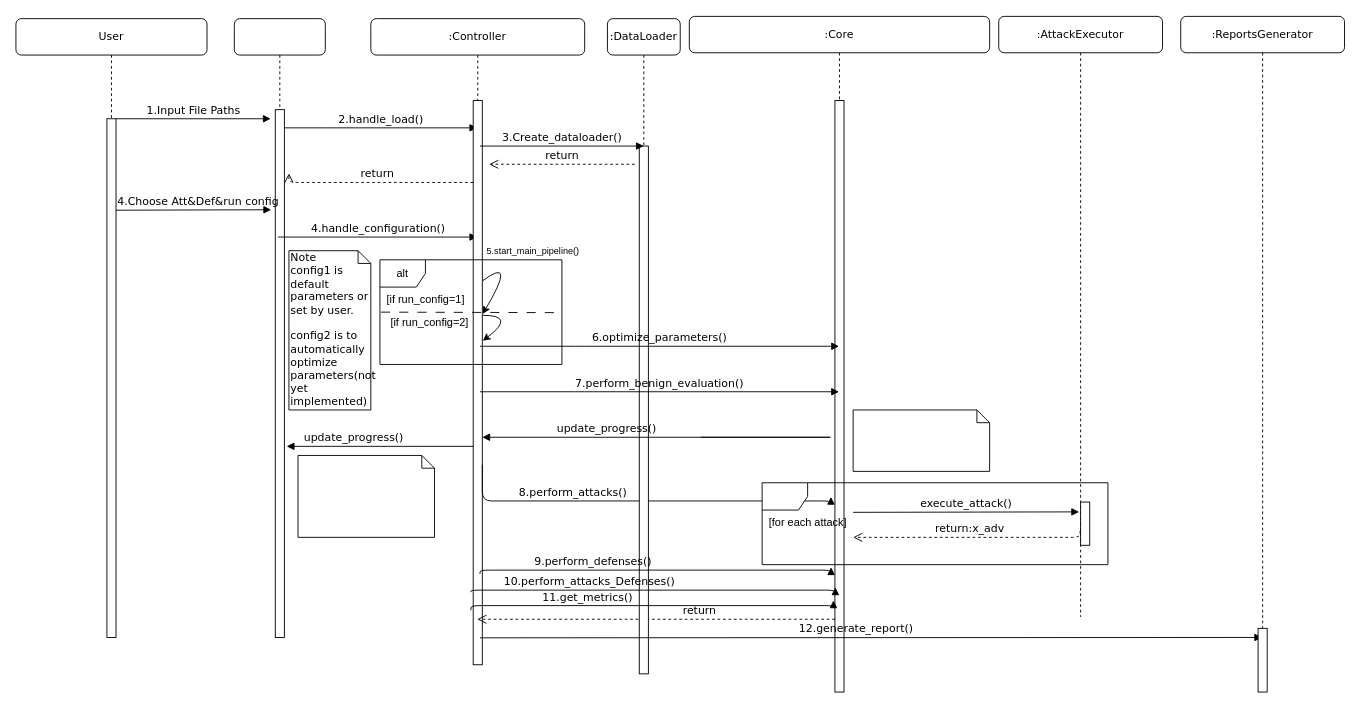
This 1360x708 diagram has some shape labels left out. The shapes that lost their labels are listed below. From the top down, each one's centre as x and y in pixels, then its label:
point 279,327: :Main_UI
point 921,440: Similar loop for step 9 and DefenseApplier and step 10 that combines both.
point 366,496: update_progress is being called continously during the 7-12 run
point 934,523: loop
